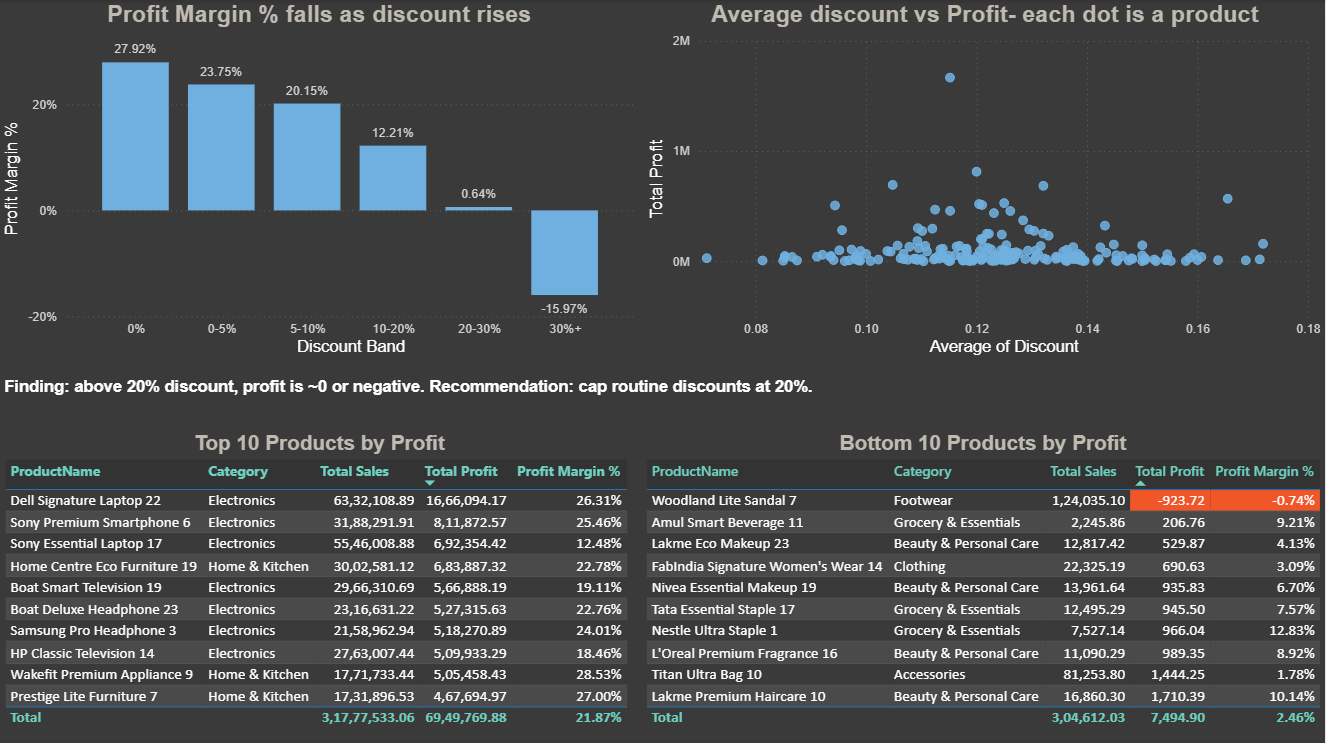

Layout of this report page (visuals, bound fields, positions):
{"tool":"powerbi","page":{"name":"Profitability & Discount","canvas":[1280,720],"ordinal":1},"visuals":[{"type":"clusteredColumnChart","title":"Profit Margin % falls as discount rises","fields":{"Category":["orders.Discount Band"],"Y":["customers.Profit Margin %"]},"box":[0,0,618.3,348.3],"z":0},{"type":"textbox","box":[0,360,801.7,38.3],"z":1000},{"type":"tableEx","title":"Top 10 Products by Profit","fields":{"Values":["products.ProductName","products.Category","customers.Total Sales","customers.Total Profit","customers.Profit Margin %"]},"box":[0,415.7,618.6,304.3],"z":2000},{"type":"tableEx","title":"Bottom 10 Products by Profit","fields":{"Values":["products.ProductName","products.Category","customers.Total Sales","customers.Total Profit","customers.Profit Margin %"]},"box":[618.6,415.7,661.4,304.3],"z":3000},{"type":"scatterChart","title":"Average discount vs Profit- each  dot is a product","fields":{"Category":["products.ProductName"],"X":["Avg(orders.Discount)"],"Y":["customers.Total Profit"]},"box":[622,0,658,348],"z":4000}]}

Visuals, with their boxes in screenshot pixels (x1, y1, x2, y2), scaled from the page's 1280x720 canvas onto the 1326x743 screenshot:
"Profit Margin % falls as discount rises" clusteredColumnChart: locate(0, 0, 641, 359)
textbox: locate(0, 372, 831, 411)
"Top 10 Products by Profit" tableEx: locate(0, 429, 641, 742)
"Bottom 10 Products by Profit" tableEx: locate(641, 429, 1325, 742)
"Average discount vs Profit- each  dot is a product" scatterChart: locate(644, 0, 1325, 359)
